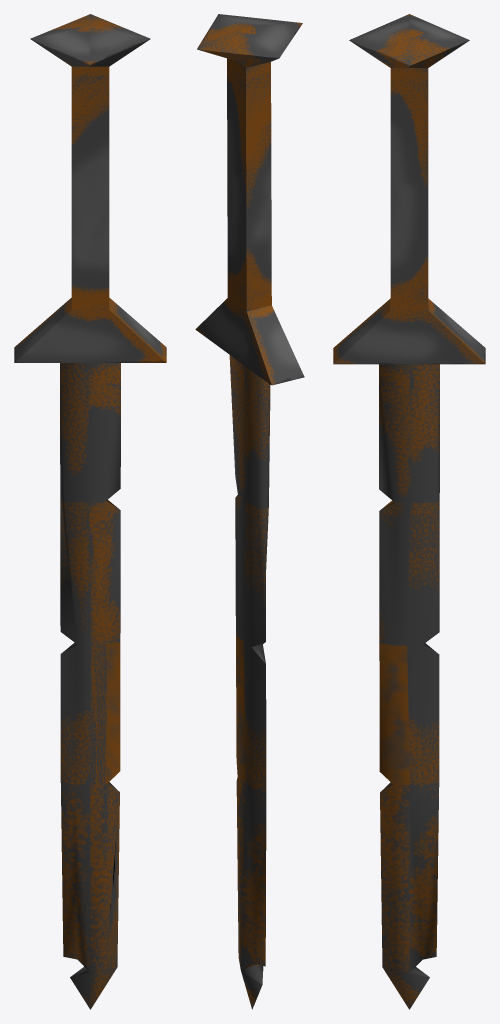
File: BrokenSword01.fbx
The picture shows the model from 3 angles, left to right: view 1: azimuth 90°, elevation 25°; view 2: azimuth 210°, elevation 25°; view 3: azimuth 270°, elevation 25°; orthographic projection.
Parts seen in each view (by area): view 1: BrokenSword, Kahva; view 2: Kahva, BrokenSword; view 3: BrokenSword, Kahva.
Part boxes in pixels (x1=…): BrokenSword: x1=60, y1=363, x2=120, y2=1009; Kahva: x1=14, y1=14, x2=166, y2=362; Kahva: x1=195, y1=14, x2=304, y2=385; BrokenSword: x1=229, y1=355, x2=270, y2=1009; BrokenSword: x1=379, y1=364, x2=439, y2=1009; Kahva: x1=333, y1=14, x2=485, y2=364.
Size of the model in its own units: 10.56 by 93.45 by 13.15.
